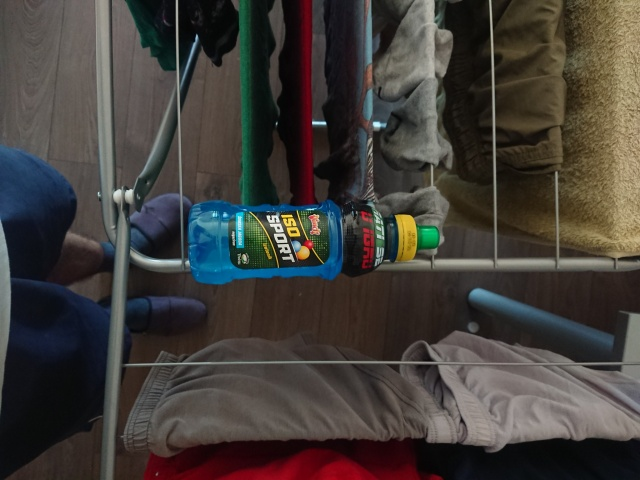Vindi Iso Sport Forest Strawberries 500mL: (185, 196, 441, 287)
